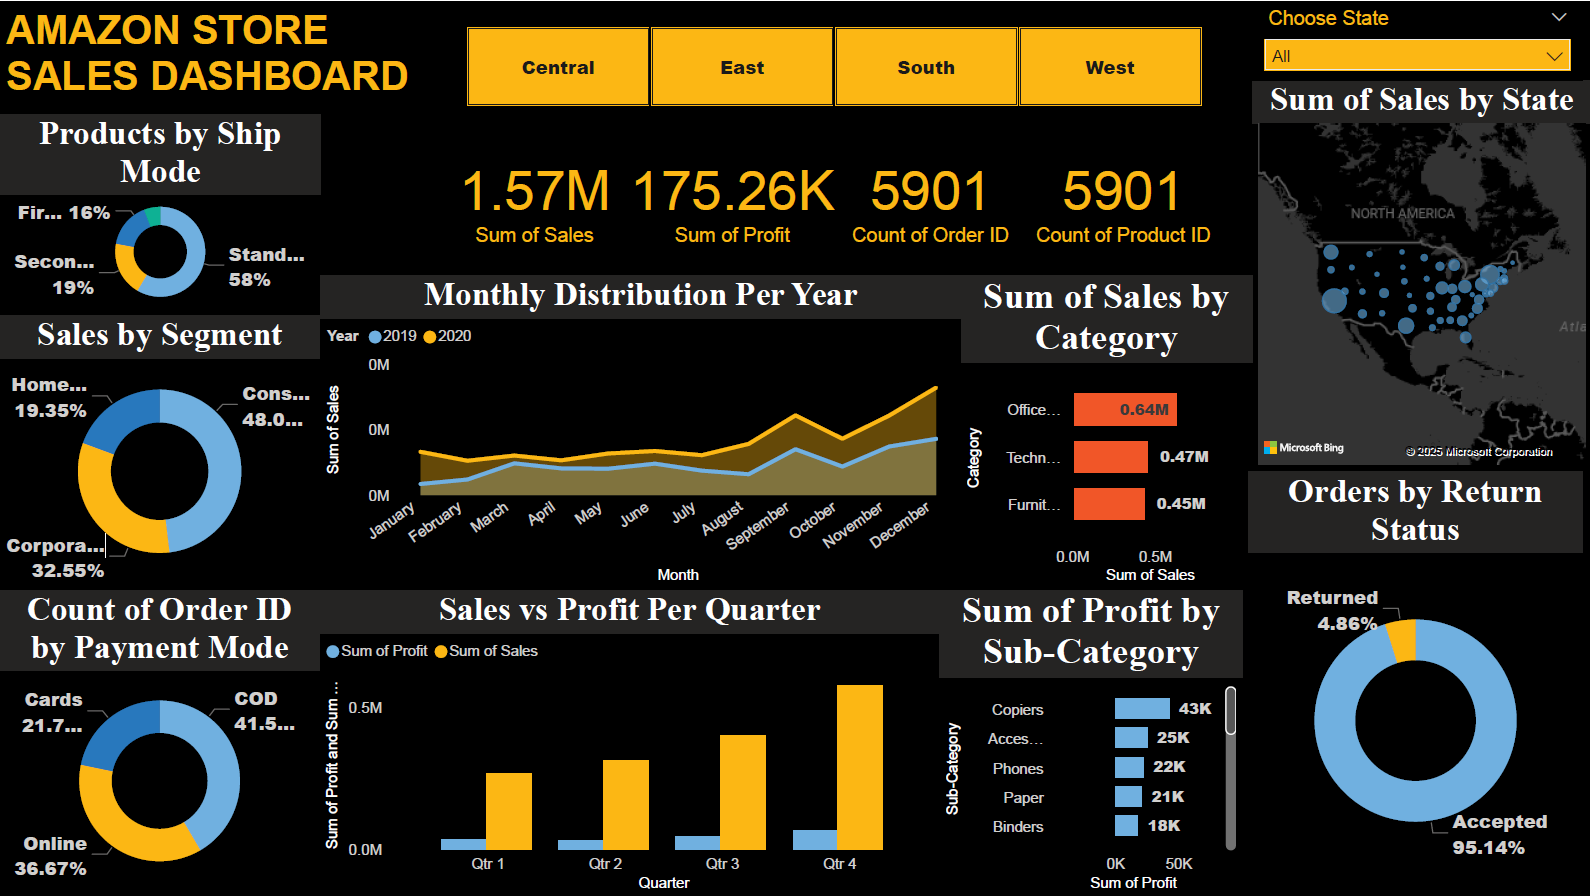

The dashboard page shown, as its layout file describes it:
{"tool":"powerbi","page":{"name":"Page 1","canvas":[1280,720],"ordinal":0},"visuals":[{"type":"barChart","fields":{"Category":["Amazon Store Sales Data#xlsx -.Category"],"Y":["Sum(Amazon Store Sales Data#xlsx -.Sales)"]},"box":[773.3,220,233.3,253.3],"z":0},{"type":"barChart","fields":{"Category":["Amazon Store Sales Data#xlsx -.Sub-Category"],"Y":["Sum(Amazon Store Sales Data#xlsx -.Profit)"]},"box":[756.4,473.1,243,247.4],"z":1000},{"type":"donutChart","title":"Sales by Segment","fields":{"Category":["Amazon Store Sales Data#xlsx -.Segment"],"Y":["Sum(Amazon Store Sales Data#xlsx -.Sales)"]},"box":[0,251.7,256.7,221.7],"z":2000},{"type":"donutChart","title":"Products by Ship Mode","fields":{"Category":["Amazon Store Sales Data#xlsx -.Ship Mode"],"Y":["CountNonNull(Amazon Store Sales Data#xlsx -.Product ID)"]},"box":[0,90,258.3,161.7],"z":3000},{"type":"donutChart","fields":{"Y":["CountNonNull(Sheet1.Order ID)"],"Category":["Sheet1.Payment Mode"]},"box":[0,473.3,256.7,246.7],"z":4000},{"type":"areaChart","title":"Monthly Distribution Per Year","fields":{"Category":["Sheet1.Ship Date.Variation.Date Hierarchy.Month"],"Y":["Sum(Sheet1.Sales)"],"Series":["Sheet1.Order Date.Variation.Date Hierarchy.Year"]},"box":[258.3,220,515,253.3],"z":5000},{"type":"clusteredColumnChart","title":"Sales vs Profit Per Quarter","fields":{"Y":["Sum(Sheet1.Profit)","Sum(Sheet1.Sales)"],"Category":["Sheet1.Ship Date.Variation.Date Hierarchy.Quarter"]},"box":[257.4,473.1,499,247.4],"z":6000},{"type":"donutChart","title":" Orders  by Return Status","fields":{"Y":["CountNonNull(Sheet1.Order ID)"],"Category":["Sheet1.Return Status"]},"box":[1004.4,377.8,268.9,340],"z":7000},{"type":"map","fields":{"Category":["Sheet1.State"],"Size":["Sum(Sheet1.Sales)"]},"box":[1006.7,63.3,273.3,314.4],"z":8000},{"type":"textbox","box":[0,0,361.5,90.4],"z":9000},{"type":"slicer","fields":{"Values":["Sheet1.Region"]},"box":[350,0,640,90],"z":10000},{"type":"slicer","fields":{"Values":["Sheet1.State"]},"box":[1006.7,0,266.7,63.3],"z":11000},{"type":"card","fields":{"Values":["Sum(Sheet1.Sales)"]},"box":[361.2,103.8,137.5,108.8],"z":12000},{"type":"card","fields":{"Values":["Sum(Sheet1.Profit)"]},"box":[498.8,103.8,180,108.8],"z":13000},{"type":"card","fields":{"Values":["CountNonNull(Sheet1.Order ID)"]},"box":[678.8,103.8,138.8,108.8],"z":14000},{"type":"card","fields":{"Values":["CountNonNull(Sheet1.Product ID)"]},"box":[817.5,103.8,171.2,108.8],"z":15000}]}

Visuals, with their boxes in screenshot pixels (x1, y1, x2, y2), scaled from the page's 1280x720 canvas onto the 1590x896 screenshot:
barChart - Amazon Store Sales Data#xlsx -.Category x Sum(Amazon Store Sales Data#xlsx -.Sales): detection(961, 274, 1250, 589)
barChart - Amazon Store Sales Data#xlsx -.Sub-Category x Sum(Amazon Store Sales Data#xlsx -.Profit): detection(940, 589, 1241, 895)
"Sales by Segment" donutChart: detection(0, 313, 319, 589)
"Products by Ship Mode" donutChart: detection(0, 112, 321, 313)
donutChart - CountNonNull(Sheet1.Order ID) x Sheet1.Payment Mode: detection(0, 589, 319, 895)
"Monthly Distribution Per Year" areaChart: detection(321, 274, 961, 589)
"Sales vs Profit Per Quarter" clusteredColumnChart: detection(320, 589, 940, 895)
" Orders  by Return Status" donutChart: detection(1248, 470, 1582, 893)
map - Sheet1.State x Sum(Sheet1.Sales): detection(1251, 79, 1589, 470)
textbox: detection(0, 0, 449, 112)
slicer - Sheet1.Region: detection(435, 0, 1230, 112)
slicer - Sheet1.State: detection(1251, 0, 1582, 79)
card - Sum(Sheet1.Sales): detection(449, 129, 619, 265)
card - Sum(Sheet1.Profit): detection(620, 129, 843, 265)
card - CountNonNull(Sheet1.Order ID): detection(843, 129, 1016, 265)
card - CountNonNull(Sheet1.Product ID): detection(1015, 129, 1228, 265)
